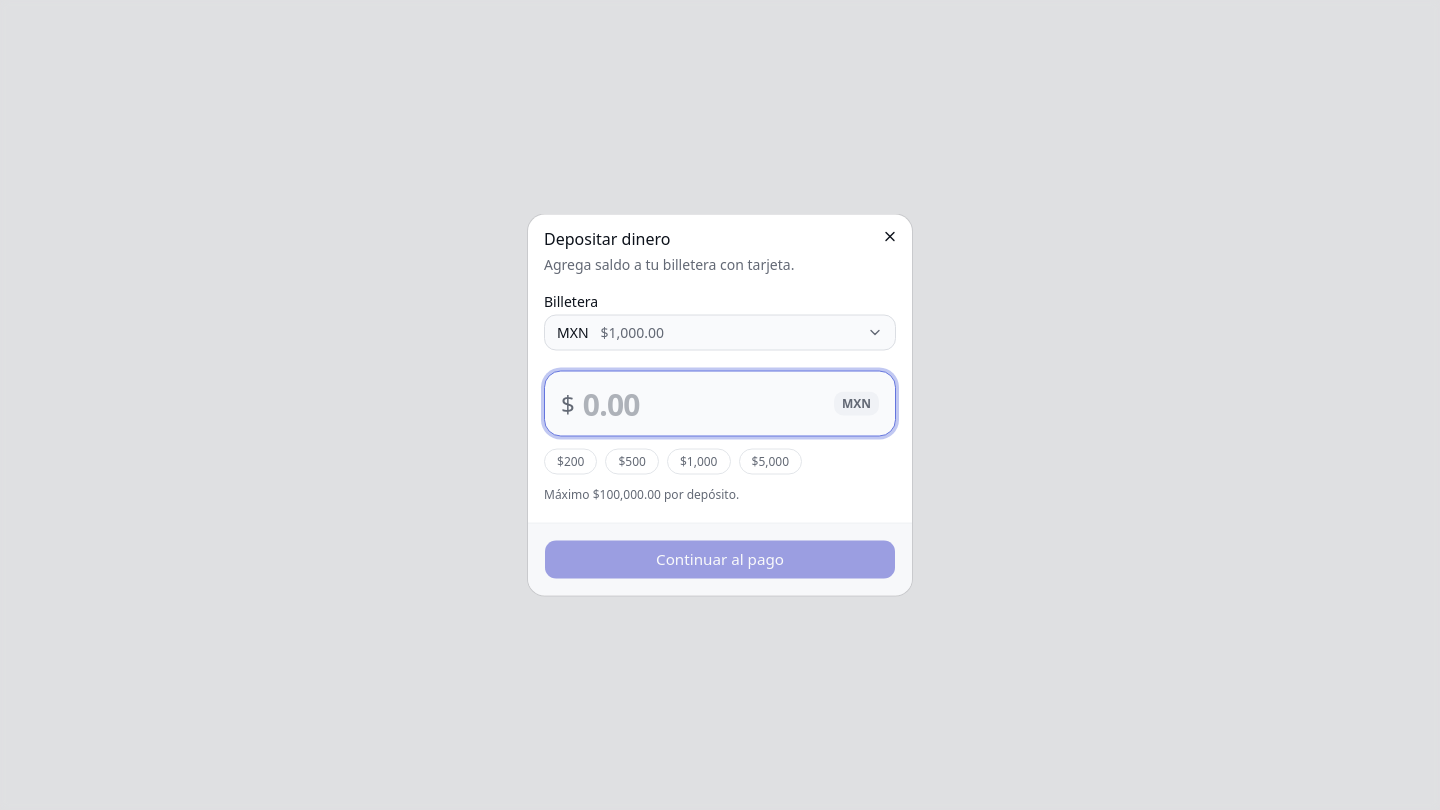
DepositDialog › never follows a checkout on an unknown host
Type "500" into the field named "Monto". click: (704, 404)
box: [583, 372, 826, 436]
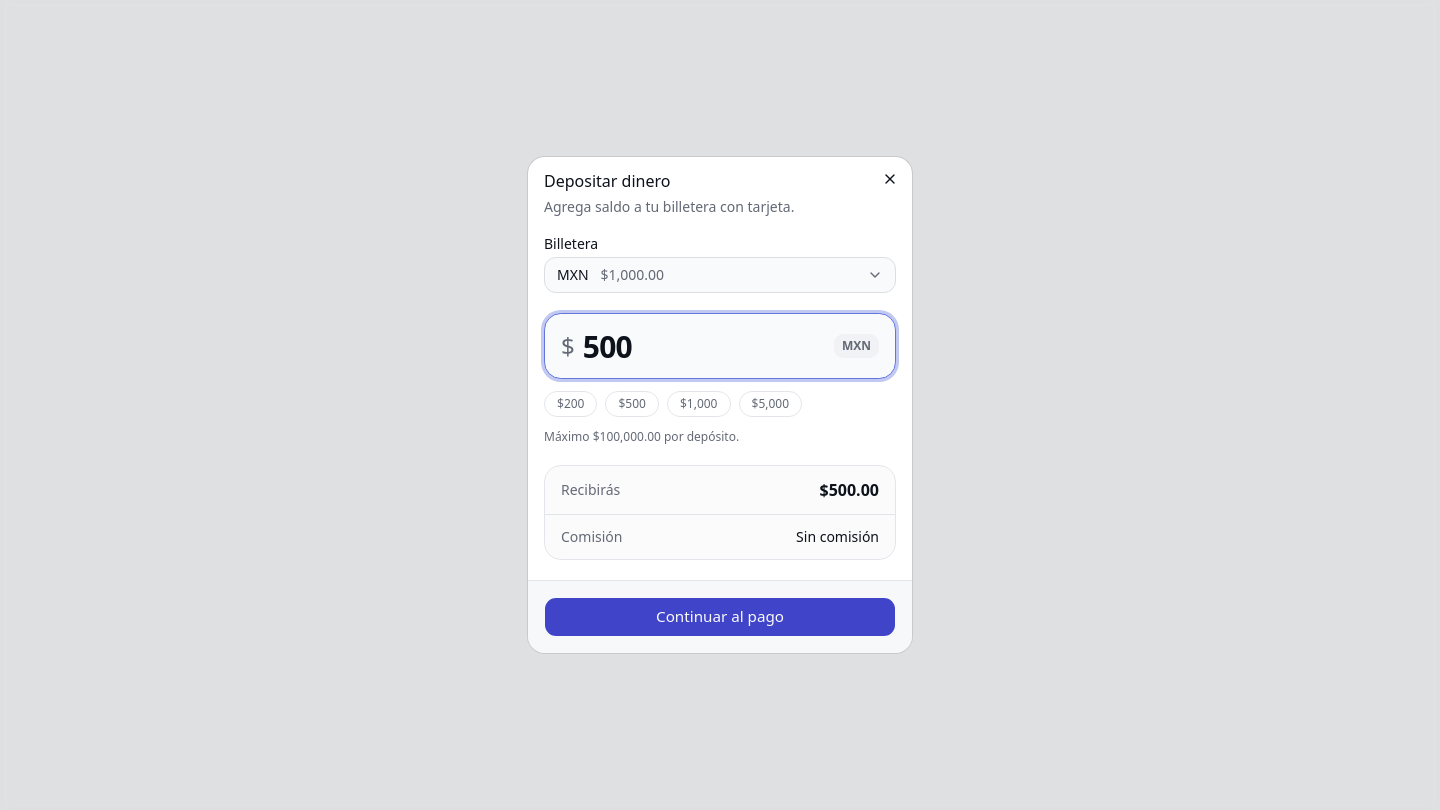
Click the button "Continuar al pago". click: (720, 617)
box: [544, 597, 896, 637]
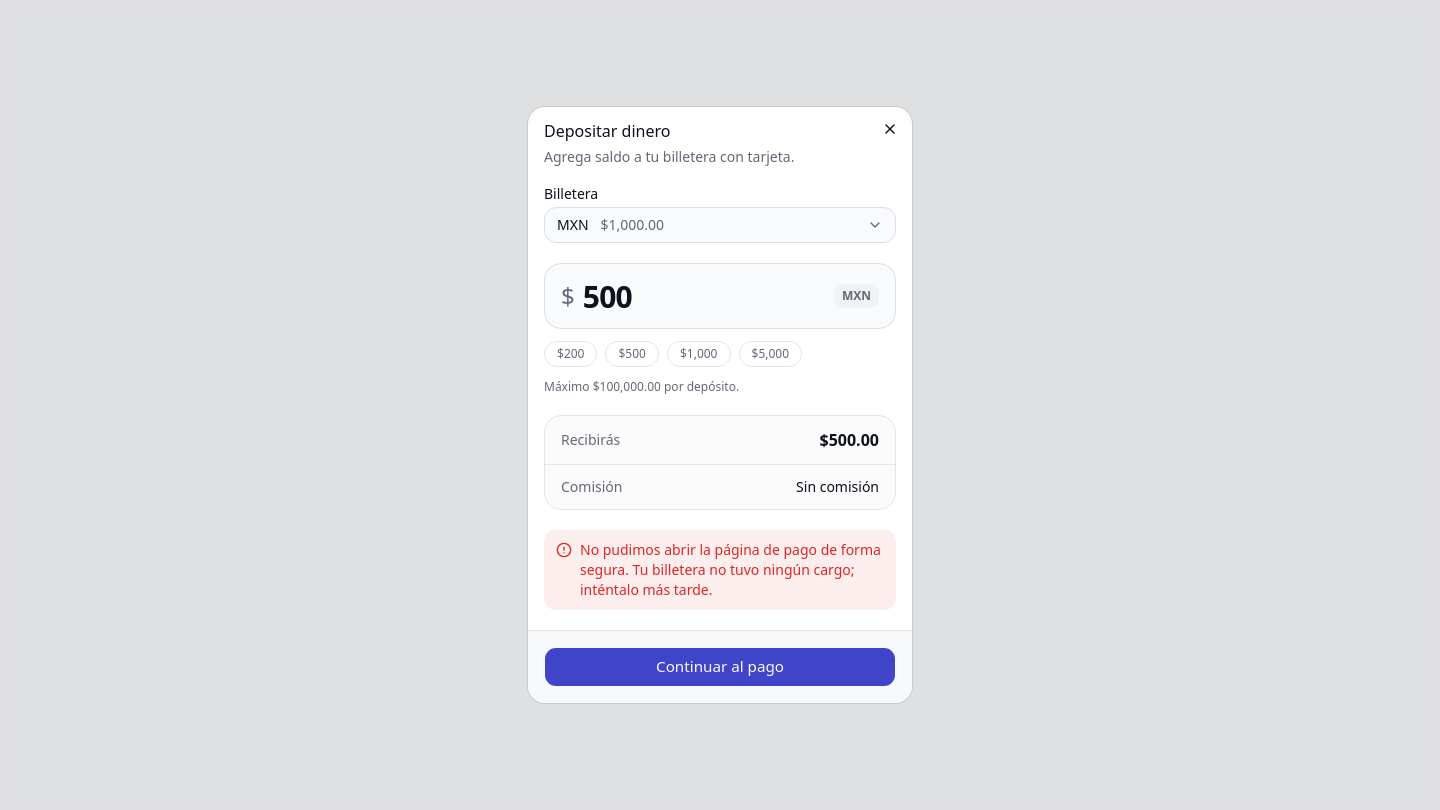
Now the text "No pudimos abrir la página de pago de forma segura" is shown, box [580, 540, 881, 599]
